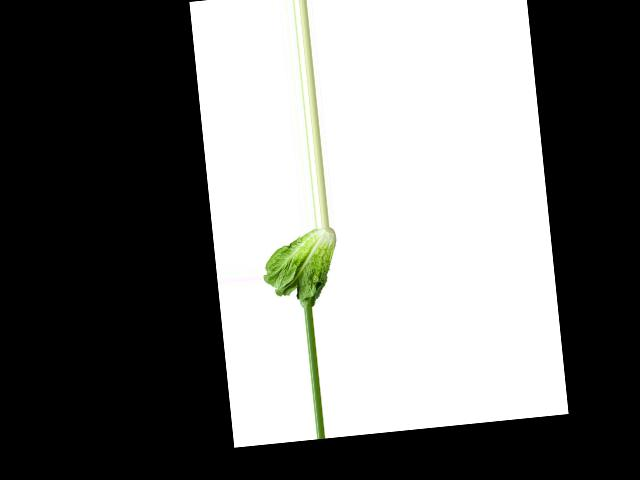lettuce: (258, 227, 343, 310)
